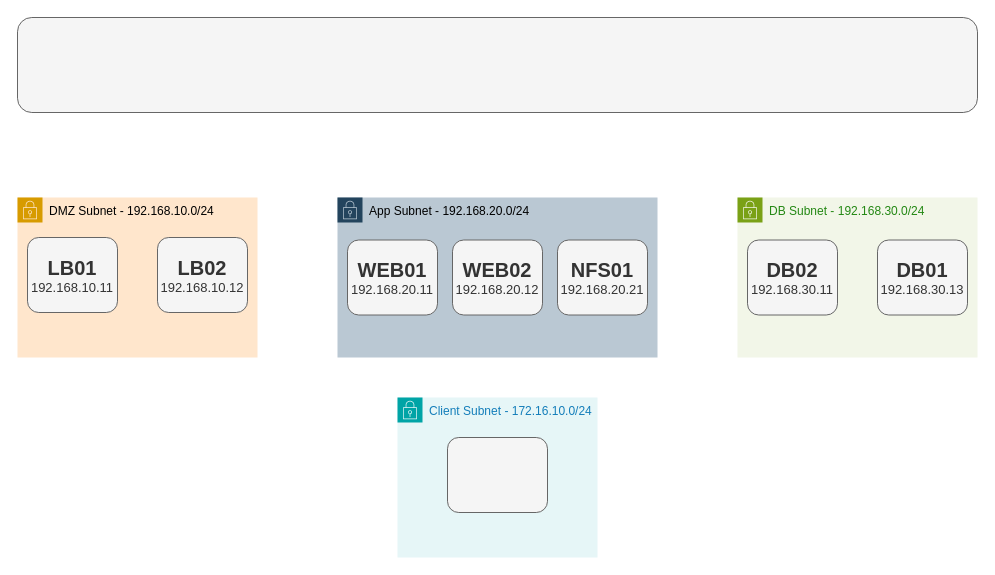
Image size: 995x575. Some labels were removed from this diagram. The shapes that lost their labels are listed below. From the top down, each one's centre as x and y in pixels, then its label:
(497,64): ROUTER 10.254 - 20.254 - 30.254 - ip.forward=1
(497,474): MGMT01 172.16.10.11
